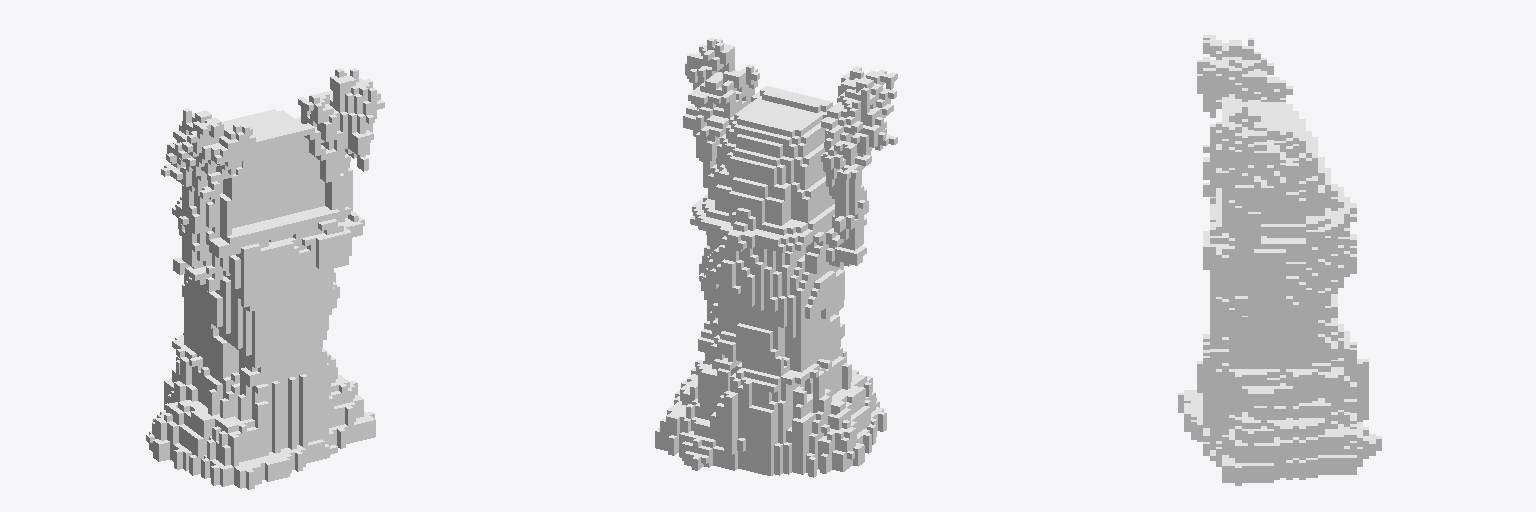
The model's file is playerHup03.obj.
3 views of the same model, side by side, from view 1: azimuth 30°, elevation 25°; view 2: azimuth 150°, elevation 25°; view 3: azimuth 270°, elevation 25° (orthographic).
Parts seen in each view (by area): view 1: object 1; view 2: object 1; view 3: object 1.
Part boxes in pixels (x1,y1,x2,y2): object 1: (146,68,384,489); object 1: (655,38,897,477); object 1: (1178,35,1381,485).
Bounding box in the file's own units: 3.7 × 6.3 × 3.2.